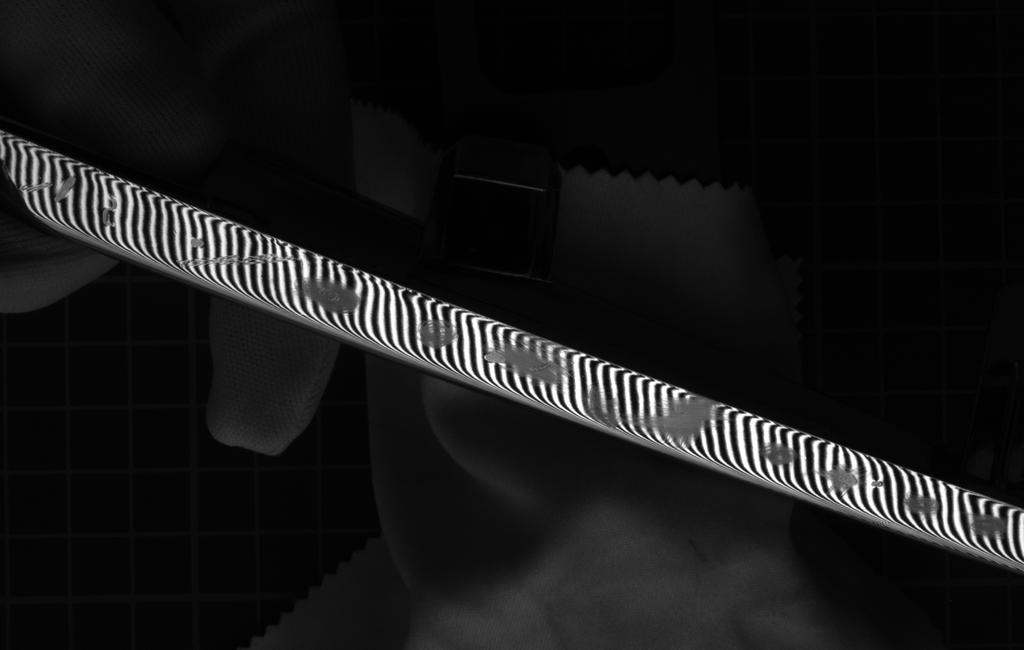Pierced: (186, 230, 208, 249), (871, 476, 889, 492)
Pitting: (583, 381, 728, 443), (487, 327, 573, 389), (298, 272, 371, 320), (818, 453, 871, 505), (415, 311, 467, 354), (757, 432, 807, 471), (902, 485, 948, 526), (964, 507, 1011, 543)
Scratch: (167, 247, 304, 276), (100, 194, 121, 235), (52, 175, 78, 202), (17, 177, 55, 195)
